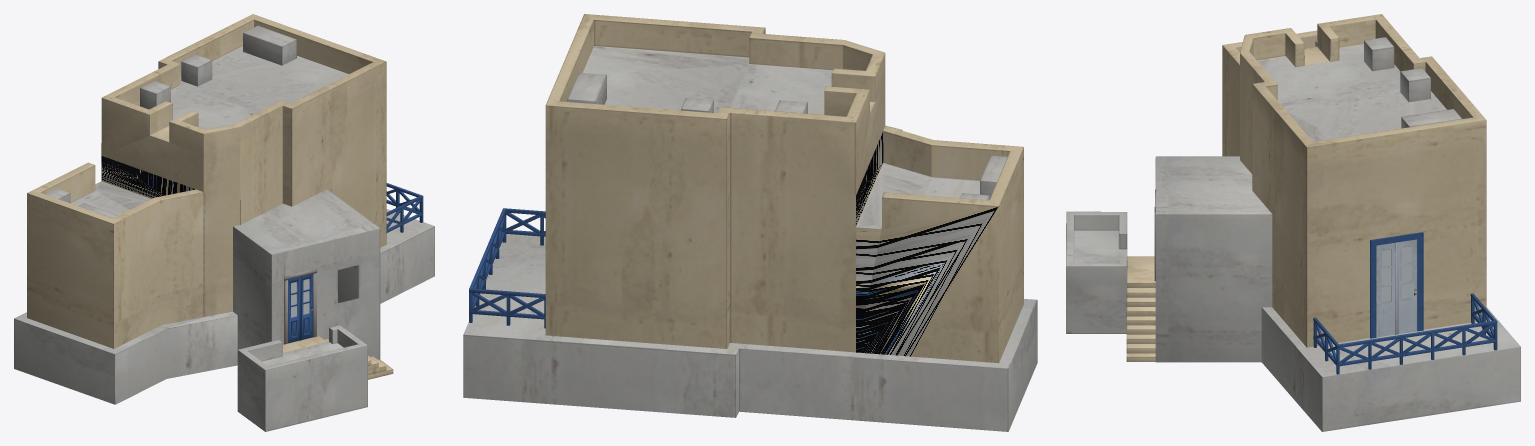
Rendered from website-scene.glb.
3 renders of one model, left to right at view 1: azimuth 30°, elevation 25°; view 2: azimuth 150°, elevation 25°; view 3: azimuth 270°, elevation 25°, orthographic. The views are drawn at different scales.
Parts seen in each view (by area): view 1: Model_7_1; view 2: Model_7_1; view 3: Model_7_1.
Boxes of the visible parts, <box> form: Model_7_1: <box>14,14,434,431</box>; Model_7_1: <box>463,14,1037,431</box>; Model_7_1: <box>1066,14,1520,431</box>.
Size of the model in its own units: 51.24 by 27.85 by 45.03.
1 material, 1 textured.
